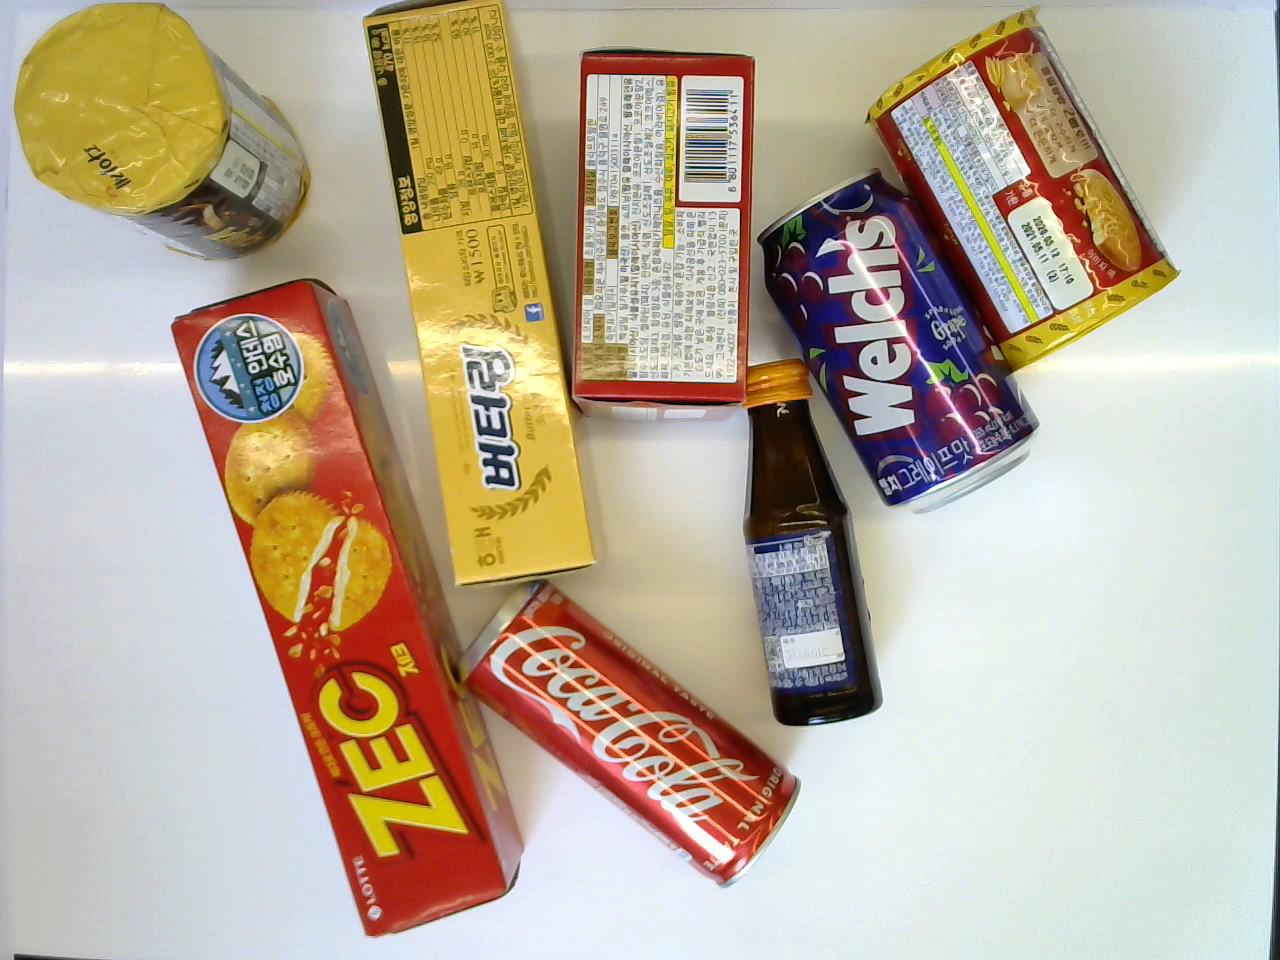buttering: (361, 0, 596, 590)
chocopie: (565, 47, 760, 425)
coke: (451, 574, 803, 890)
diget_choco: (14, 0, 314, 266)
diget_ori: (863, 7, 1184, 378)
vita500: (730, 354, 884, 730)
welchs: (754, 168, 1041, 518)
zec: (167, 279, 526, 941)
